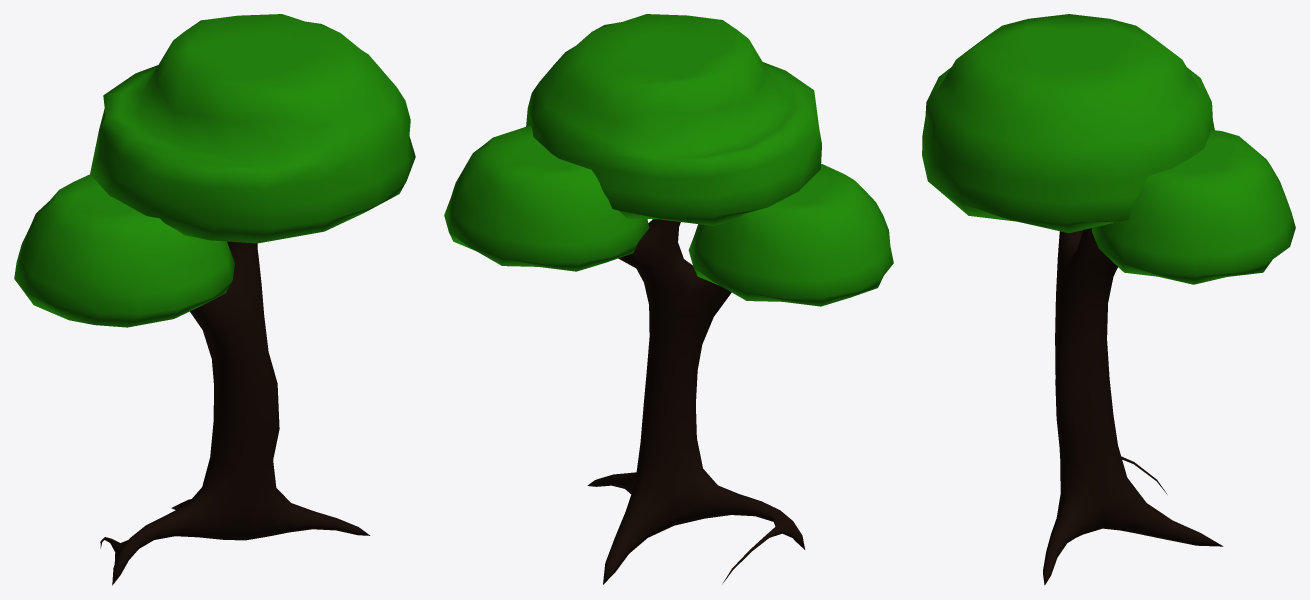
File: SM_Giant_Tree_2.FBX
The picture shows the model from 3 angles, left to right: view 1: azimuth 30°, elevation 25°; view 2: azimuth 150°, elevation 25°; view 3: azimuth 270°, elevation 25°; orthographic projection. The views are drawn at different scales.
Visible parts, largest first — view 1: SM_Giant_Tree_2; view 2: SM_Giant_Tree_2; view 3: SM_Giant_Tree_2.
Boxes of the visible parts, x1,y1,x2,y2 form: SM_Giant_Tree_2: (14, 14, 415, 585); SM_Giant_Tree_2: (444, 14, 893, 584); SM_Giant_Tree_2: (922, 14, 1295, 585).
Size of the model in its own units: 35.22 by 43.97 by 29.76.
